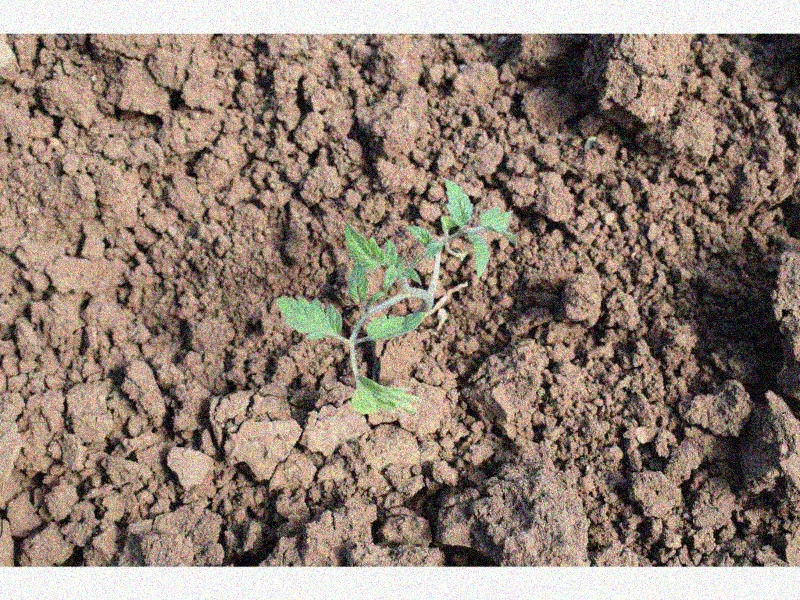tomato: (274, 181, 515, 415)
